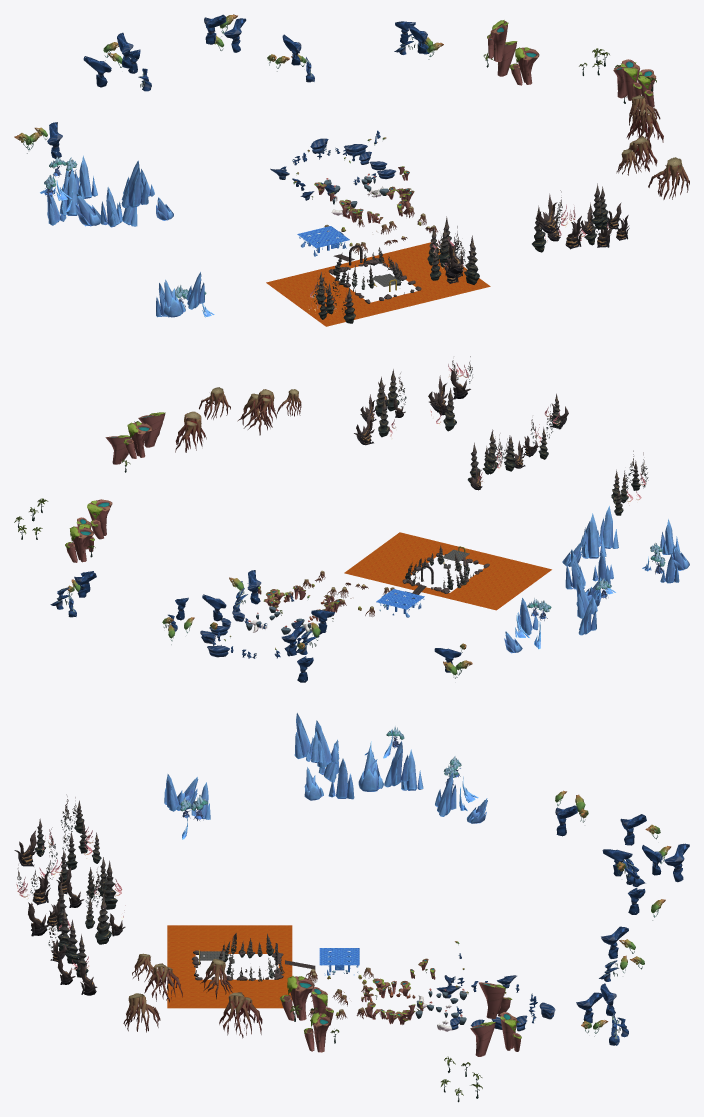
Rendered from emberhold_decor_lite2.glb.
The picture shows the model from 3 angles, top to bottom: view 1: azimuth 30°, elevation 25°; view 2: azimuth 150°, elevation 25°; view 3: azimuth 270°, elevation 25°; orthographic projection. The views are drawn at different scales.
Visible parts, largest first — view 1: visual_caldera, bog_peak_2_bog-mangrove, sand_peak_6_sand-cone-c, visual_hall, sand_peak_7_sand-cone-c, bog_peak_0_bog-mangrove-b, sand_peak_3_sand-cone-c, ice_peak_10_ice-slab-b, ice_peak_12_ice-slab-b, bog_peak_3_bog-mangrove-b, ice_peak_11_ice-slab-b, bog_peak_1_bog-mangrove (+3 smaller); view 2: visual_caldera, bog_peak_0_bog-mangrove-b, sand_peak_8_sand-cone-c, sand_peak_2_sand-cone-c, sand_peak_7_sand-cone-c, ice_peak_9_ice-slab-b, visual_hall, bog_peak_3_bog-mangrove-b, ice_peak_10_ice-slab-b, sand_peak_3_sand-cone-c, bog_peak_1_bog-mangrove; view 3: visual_caldera, sand_peak_3_sand-cone-c, bog_peak_0_bog-mangrove-b, visual_hall, sand_peak_7_sand-cone-c, bog_peak_2_bog-mangrove, sand_peak_1_sand-cone-c, bog_peak_3_bog-mangrove-b, ice_peak_15_ice-slab-a, ice_peak_12_ice-slab-b, ice_peak_6_ice-slab-b, sand_peak_8_sand-cone-c.
Part boxes in pixels (x1,y1,x2,y2): visual_caldera: (266,242,490,326); bog_peak_2_bog-mangrove: (648,157,689,199); sand_peak_6_sand-cone-c: (509,47,539,85); visual_hall: (297,226,349,252); sand_peak_7_sand-cone-c: (487,20,508,61); bog_peak_0_bog-mangrove-b: (626,108,663,148); sand_peak_3_sand-cone-c: (620,59,641,100); ice_peak_10_ice-slab-b: (122,166,148,207); ice_peak_12_ice-slab-b: (59,168,83,215); bog_peak_3_bog-mangrove-b: (623,136,657,171); ice_peak_11_ice-slab-b: (100,187,122,227); bog_peak_1_bog-mangrove: (629,95,660,127); visual_caldera: (344,532,551,610); bog_peak_0_bog-mangrove-b: (175,411,206,452); sand_peak_8_sand-cone-c: (65,526,93,562); sand_peak_2_sand-cone-c: (123,422,152,458); sand_peak_7_sand-cone-c: (87,499,112,539); ice_peak_9_ice-slab-b: (581,513,606,558); visual_hall: (376,589,424,613); bog_peak_3_bog-mangrove-b: (250,389,276,425); ice_peak_10_ice-slab-b: (597,506,618,548); sand_peak_3_sand-cone-c: (138,412,165,447); bog_peak_1_bog-mangrove: (199,387,230,419); visual_caldera: (167,925,292,1008); sand_peak_3_sand-cone-c: (279,976,314,1020); bog_peak_0_bog-mangrove-b: (219,992,262,1038); visual_hall: (319,948,359,972); sand_peak_7_sand-cone-c: (478,982,512,1018); bog_peak_2_bog-mangrove: (123,993,160,1032); sand_peak_1_sand-cone-c: (304,1012,330,1052); bog_peak_3_bog-mangrove-b: (144,963,182,1002); ice_peak_15_ice-slab-a: (358,746,383,791); ice_peak_12_ice-slab-b: (384,741,409,787); ice_peak_6_ice-slab-b: (328,758,354,799); sand_peak_8_sand-cone-c: (500,1012,521,1051).
Bounding box in the file's own units: 1925 × 475 × 1786.
Materials: 57 (57 with a texture image).
